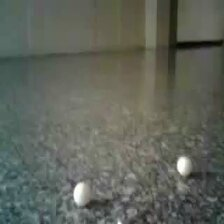w: (73, 182, 90, 205), (176, 156, 192, 176)
